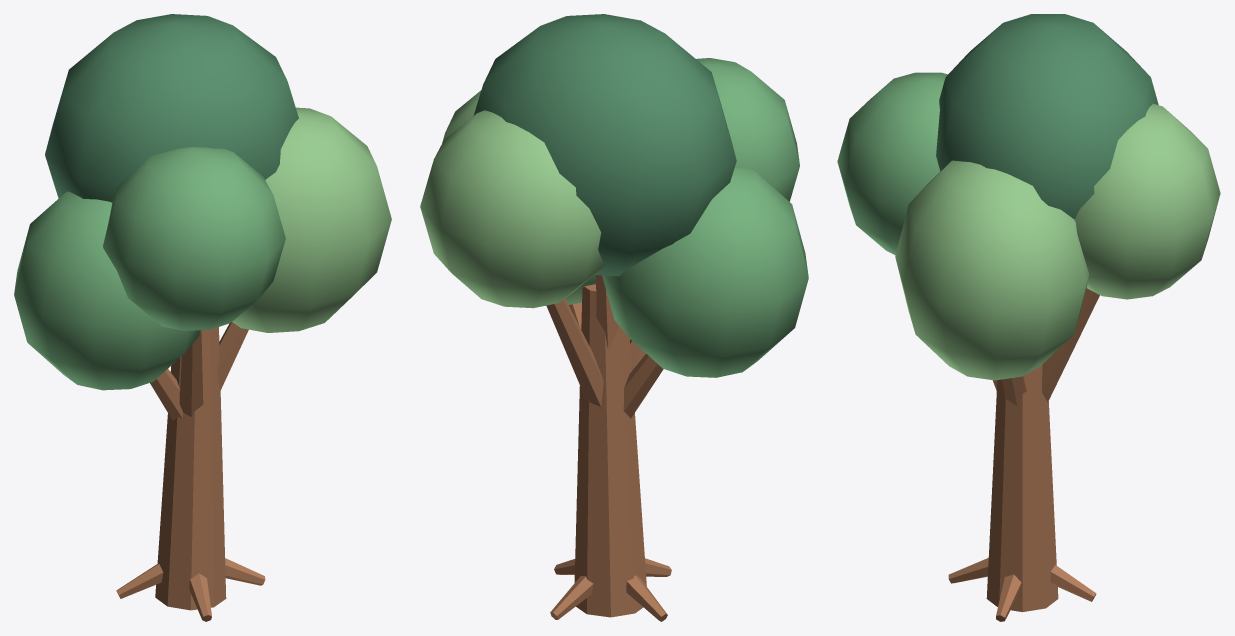
File: tree.glb
3 renders of one model, left to right at view 1: azimuth 30°, elevation 25°; view 2: azimuth 150°, elevation 25°; view 3: azimuth 270°, elevation 25°, orthographic. The views are drawn at different scales.
Visible parts, largest first — view 1: canopy-2, canopy-3, canopy-1, canopy-0, trunk, branch-3, branch-1, branch-0, root-1, root-2, root-0; view 2: canopy-2, canopy-0, canopy-4, trunk, canopy-3, branch-4, branch-0, canopy-1, branch-2, root-3, root-2; view 3: canopy-1, canopy-2, canopy-4, trunk, canopy-3, branch-4, root-3, root-0, root-1.
Part boxes in pixels (<box>): canopy-2: <box>45,14,298,202</box>; canopy-3: <box>103,147,285,330</box>; canopy-1: <box>232,107,391,332</box>; canopy-0: <box>14,191,200,390</box>; trunk: <box>155,327,226,610</box>; branch-3: <box>179,330,203,416</box>; branch-1: <box>217,322,248,391</box>; branch-0: <box>150,369,183,420</box>; root-1: <box>189,573,211,621</box>; root-2: <box>116,564,163,598</box>; root-0: <box>225,558,265,585</box>; canopy-2: <box>473,14,736,276</box>; canopy-0: <box>602,167,808,377</box>; canopy-4: <box>420,110,604,308</box>; trunk: <box>574,284,646,617</box>; canopy-3: <box>696,58,799,201</box>; branch-4: <box>546,298,603,406</box>; branch-0: <box>623,353,663,418</box>; canopy-1: <box>442,90,595,305</box>; branch-2: <box>596,275,618,350</box>; root-3: <box>550,576,593,619</box>; root-2: <box>626,575,667,621</box>; canopy-1: <box>895,160,1088,380</box>; canopy-2: <box>936,14,1158,219</box>; canopy-4: <box>1074,103,1220,299</box>; trunk: <box>986,365,1058,612</box>; canopy-3: <box>837,72,947,255</box>; branch-4: <box>1042,288,1099,402</box>; root-3: <box>1050,565,1096,601</box>; root-0: <box>996,574,1021,621</box>; root-1: <box>948,558,988,583</box>.
Bounding box in the file's own units: 1.88 × 2.93 × 1.79.
